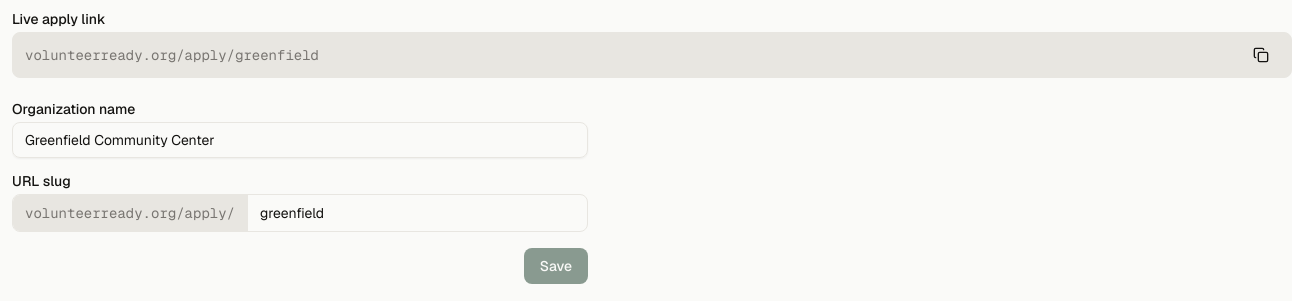
Test case: OrgProfileForm › normalizes slug input as you type (uppercase + spaces)
Step 1. Replace the text in the field labelled "URL slug" with "My Org" → point(418, 213), box [248,195,587,231]
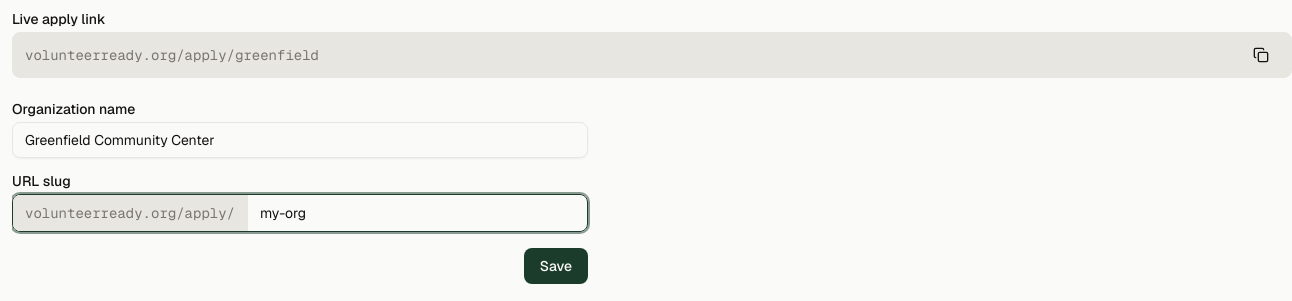
Expected: the field labelled "URL slug" holds "my-org", [248,195,587,231]
